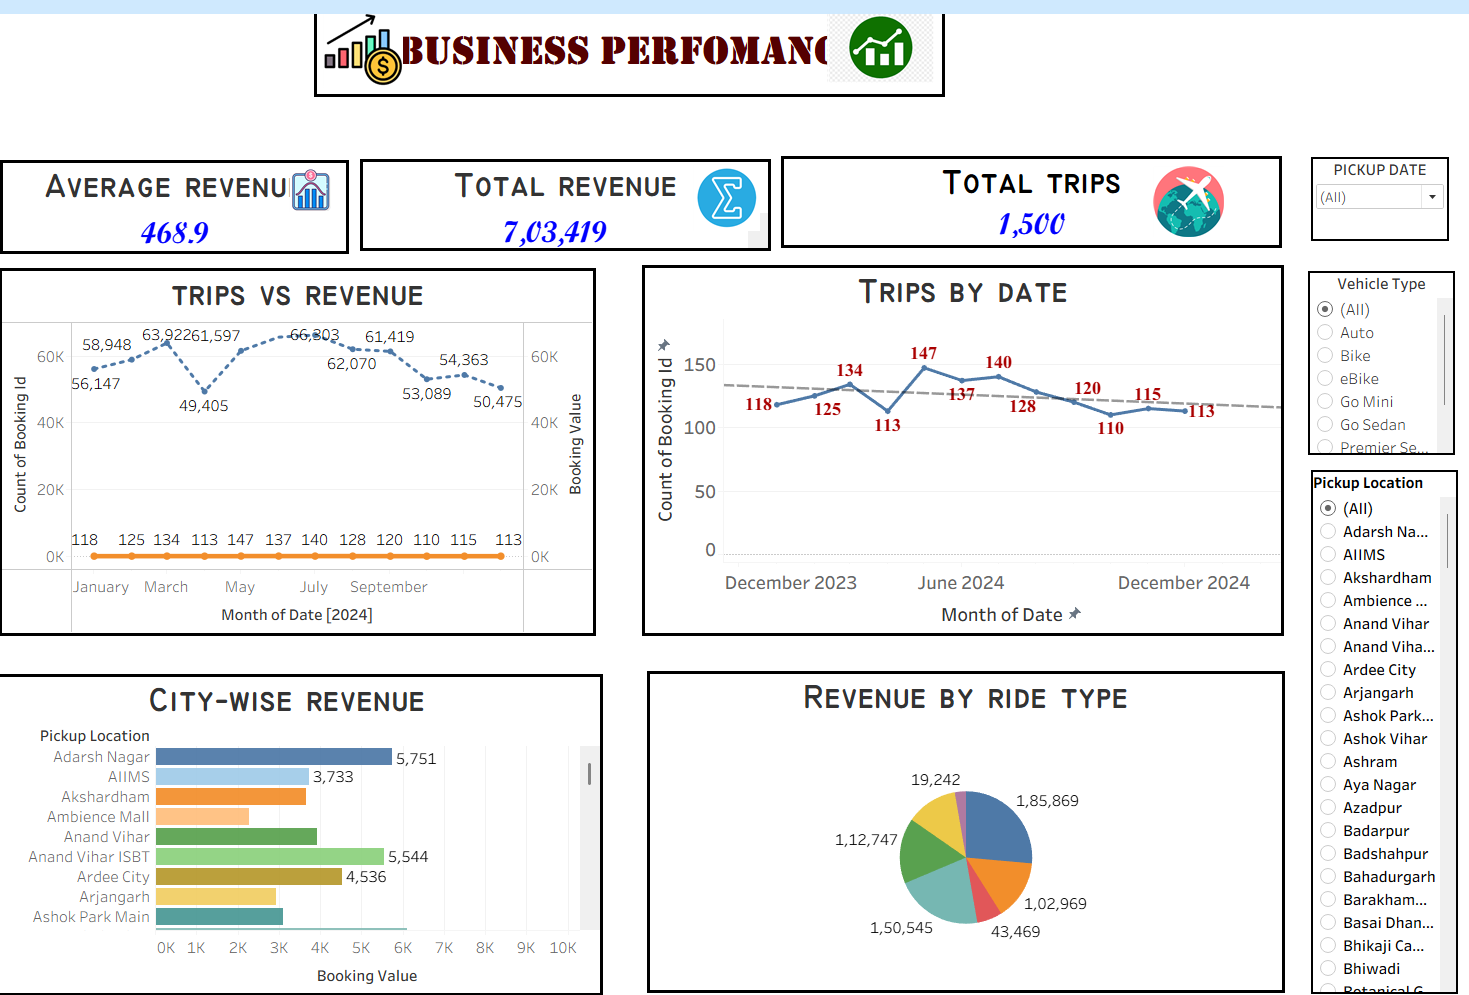

The dashboard page shown, as its layout file describes it:
{"tool":"tableau","page":{"name":"Business Perfomance","canvas":[1000,1000],"units":"permille","ordinal":0},"visuals":[{"type":"worksheet","title":"Sheet 21","mark":"Automatic","box":[5.3,6.4,989.5,523]},{"type":"title","box":[227,9.5,415.1,72.2]},{"type":"image","param":"Image/download (59).png","box":[232.9,13.5,67.8,61.1]},{"type":"image","param":"Image/download (60).png","box":[564.5,13.5,70.4,62.7]},{"type":"worksheet","title":"Total trips","mark":"Automatic","box":[539.5,128.6,324.3,68.2]},{"type":"filter","title":"Sheet 20","param":"[federated.08jrqx21kfz2181amsdsx1htn2qq].[md:date:ok]","box":[882.9,129.4,90.8,66.7]},{"type":"worksheet","title":"Total revenue","mark":"Automatic","box":[270.4,130.9,257.2,65.9]},{"type":"worksheet","title":"Average revenue","mark":"Automatic","box":[21.7,131.8,228.3,65.9]},{"type":"image","param":"Image/download (62).png","box":[476.3,134.9,44.1,55.6]},{"type":"image","param":"Image/download (63).png","box":[779,136.5,81.6,56.4]},{"type":"image","param":"Image/download (61).png","box":[210.5,138.1,28.9,55.6]},{"type":"worksheet","title":"Trips by date","mark":"Line","rows":["booking_id"],"cols":["date"],"box":[442.8,215.1,422.4,294.4]},{"type":"worksheet","title":"trips vs revenue","mark":"Automatic","rows":["booking_id","booking_value"],"cols":["date"],"box":[19.7,217.5,392.8,292.1]},{"type":"filter","title":"Sheet 22","param":"[federated.08jrqx21kfz2181amsdsx1htn2qq].[none:vehicle_type:nk]","box":[880.9,219.8,96.7,146]},{"type":"worksheet","title":"Sheet 22","mark":"Automatic","box":[450,250.8,202.6,255.6]},{"type":"worksheet","title":"Sheet 20","mark":"Automatic","box":[870.4,260.3,2.6,40.5]},{"type":"filter","title":"Sheet 21","param":"[federated.08jrqx21kfz2181amsdsx1htn2qq].[none:pickup_location:nk]","box":[882.9,377.8,96.7,415.9]},{"type":"worksheet","title":"Revenue by ride type","mark":"Pie","box":[446.1,537.3,419.7,255.6]},{"type":"worksheet","title":"City-wise revenue","mark":"Automatic","rows":["pickup_location"],"cols":["booking_value"],"box":[15.1,539.7,402,255.6]}]}

Visuals, with their boxes on the dashboard's canvas, which has no fixed pixel size, in thousandths of its width and height (x1, y1, x2, y2). These are canvas units, not pixel positions in the 1469x995 screenshot, which may show the page scaled, cropped or inside an application window:
"Sheet 21" worksheet: [left=5, top=6, right=995, bottom=529]
title: [left=227, top=10, right=642, bottom=82]
image: [left=233, top=14, right=301, bottom=75]
image: [left=564, top=14, right=635, bottom=76]
"Total trips" worksheet: [left=540, top=129, right=864, bottom=197]
"Sheet 20" filter: [left=883, top=129, right=974, bottom=196]
"Total revenue" worksheet: [left=270, top=131, right=528, bottom=197]
"Average revenue" worksheet: [left=22, top=132, right=250, bottom=198]
image: [left=476, top=135, right=520, bottom=190]
image: [left=779, top=136, right=861, bottom=193]
image: [left=210, top=138, right=239, bottom=194]
"Trips by date" worksheet (Line marks): [left=443, top=215, right=865, bottom=510]
"trips vs revenue" worksheet: [left=20, top=218, right=412, bottom=510]
"Sheet 22" filter: [left=881, top=220, right=978, bottom=366]
"Sheet 22" worksheet: [left=450, top=251, right=653, bottom=506]
"Sheet 20" worksheet: [left=870, top=260, right=873, bottom=301]
"Sheet 21" filter: [left=883, top=378, right=980, bottom=794]
"Revenue by ride type" worksheet (Pie marks): [left=446, top=537, right=866, bottom=793]
"City-wise revenue" worksheet: [left=15, top=540, right=417, bottom=795]
